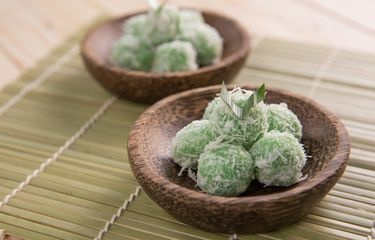klepon: (203, 146, 255, 194)
